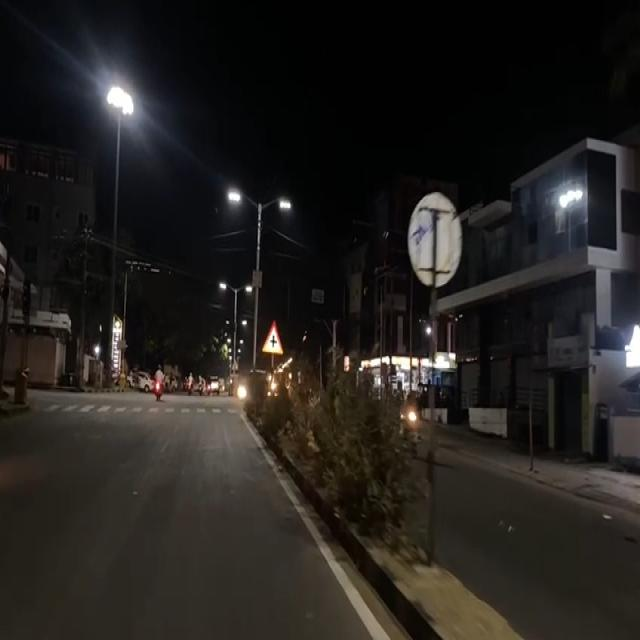bien_cam: (262, 316, 283, 358)
